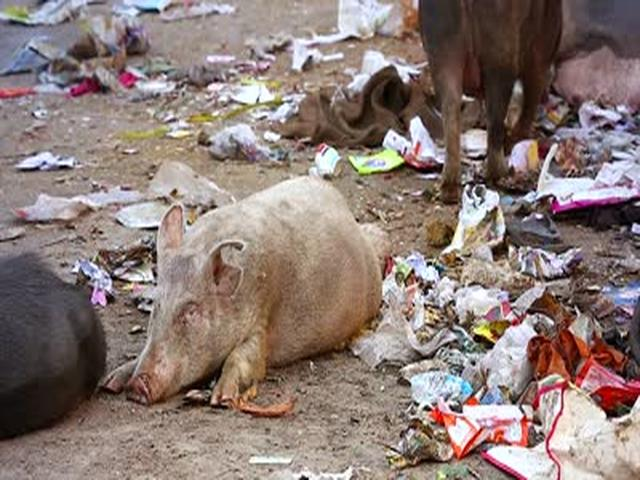garbage: (401, 233, 611, 460)
